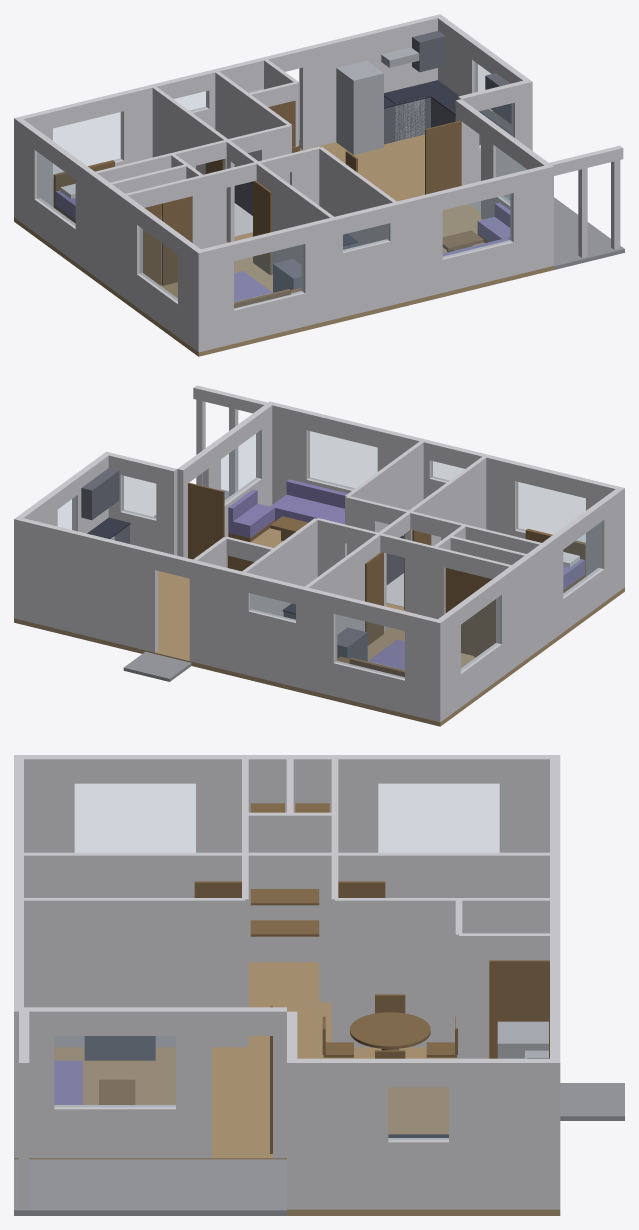
File: adu-891.glb
The picture shows the model from 3 angles, top to bottom: view 1: azimuth 30°, elevation 25°; view 2: azimuth 150°, elevation 25°; view 3: azimuth 270°, elevation 25°; orthographic projection. The views are drawn at different scales.
Parts seen in each view (by area): view 1: wall_north_8, slab_main, wall_west_3, wall_south_6, kitchen_fridge, wall_south_3, wall_south_0, wall_bath106_east_0, wall_south_9, wall_hall_spine_0, window_3, window_1 (+69 smaller); view 2: wall_north_8, wall_west_3, slab_main, wall_north_6, wall_north_3, wall_north_0, wall_bath104_east_0, wall_hall_spine_2, window_6, wall_north_sill4, wall_south_9, window_1 (+65 smaller); view 3: wall_bath106_east_0, slab_main, wall_bath104_east_0, wall_east_0, slab_porch, wall_east_3, wall_west_3, wall_hall_spine_0, wall_hall_spine_2, window_11, window_5, window_4 (+34 smaller).
Part boxes in pixels (x1,y1,x2,y2): wall_north_8: (299,14,443,149); slab_main: (14,142,553,356); wall_west_3: (75,162,142,306); wall_south_6: (387,191,442,305); kitchen_fridge: (336,60,383,154); wall_south_3: (301,215,342,326); wall_south_0: (195,242,233,352); wall_bath106_east_0: (319,147,400,303); wall_south_9: (510,164,553,275); wall_hall_spine_0: (152,84,234,242); window_3: (234,245,303,308); window_1: (443,194,511,257); wall_north_8: (14,518,158,652); wall_west_3: (496,531,563,676); slab_main: (85,504,624,726); wall_north_6: (190,560,251,675); wall_north_3: (296,585,337,696); wall_north_0: (405,612,443,722); wall_bath104_east_0: (238,518,318,672); wall_hall_spine_2: (406,454,489,611); window_6: (335,614,404,678); wall_north_sill4: (248,609,295,686); wall_south_9: (266,401,309,504); window_1: (308,431,377,489); wall_bath106_east_0: (14,898,245,1047); slab_main: (14,962,455,1159); wall_bath104_east_0: (335,898,560,1047); wall_east_0: (449,1058,560,1209); slab_porch: (14,1159,286,1215); wall_east_3: (287,1058,388,1209); wall_west_3: (196,755,378,852); wall_hall_spine_0: (319,852,560,1002); wall_hall_spine_2: (14,852,248,897); window_11: (54,1036,175,1106); window_5: (378,784,499,852); window_4: (75,784,195,852).
Bounding box in the file's own units: 10.97 × 2.55 × 9.2.
